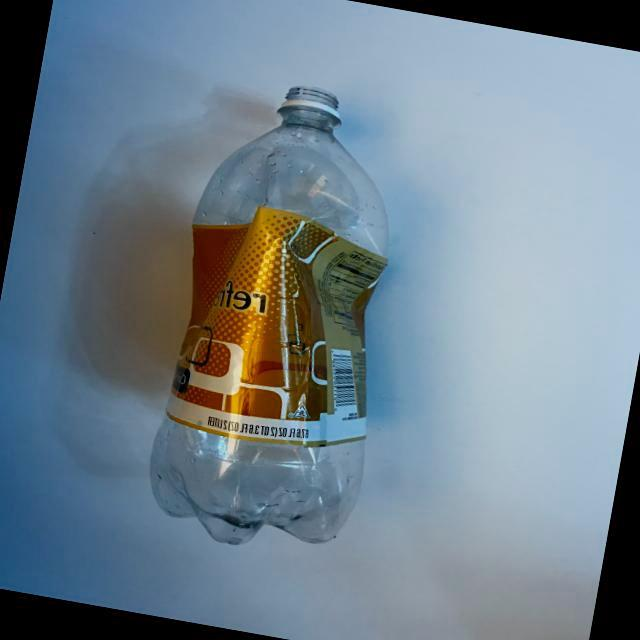plastic: (58, 38, 470, 585)
